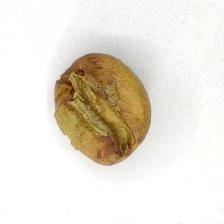NG: (60, 66, 138, 150)
